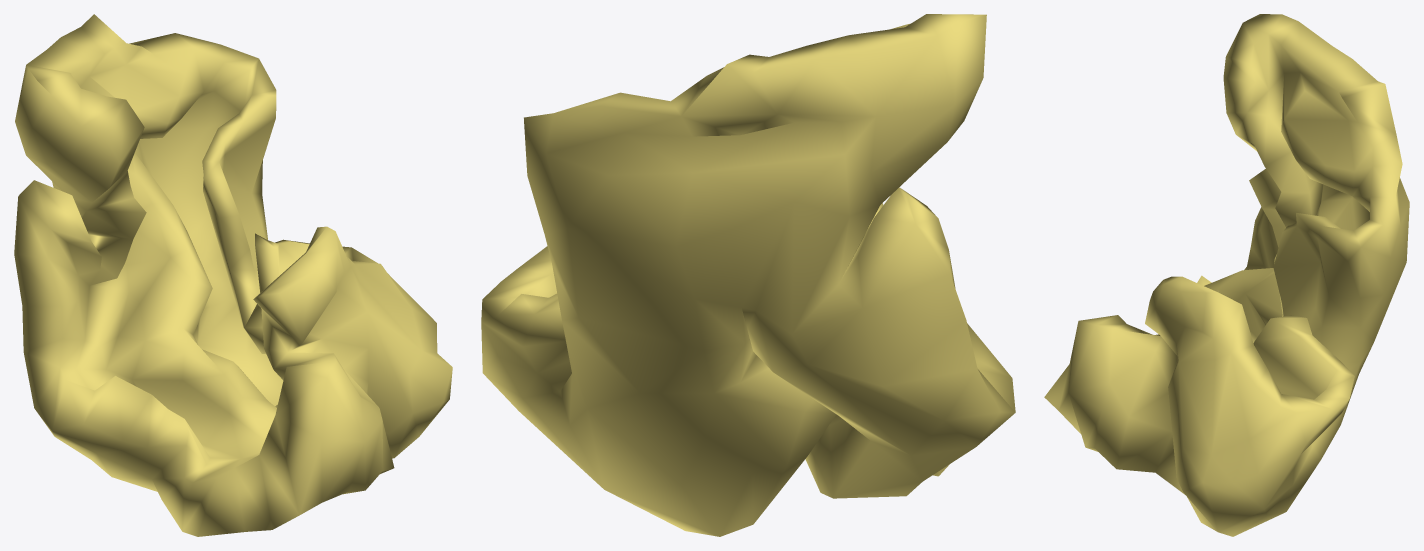
The model's file is occipital-pole-r.glb.
The picture shows the model from 3 angles, left to right: view 1: azimuth 30°, elevation 25°; view 2: azimuth 150°, elevation 25°; view 3: azimuth 270°, elevation 25°; orthographic projection. The views are drawn at different scales.
Visible parts, largest first — view 1: Occipital pole.r; view 2: Occipital pole.r; view 3: Occipital pole.r.
Boxes of the visible parts, x1=… form: Occipital pole.r: x1=14, y1=14, x2=452, y2=536; Occipital pole.r: x1=481, y1=14, x2=1015, y2=536; Occipital pole.r: x1=1044, y1=14, x2=1409, y2=536.
Size of the model in its own units: 0.0316 by 0.0345 by 0.0284.
